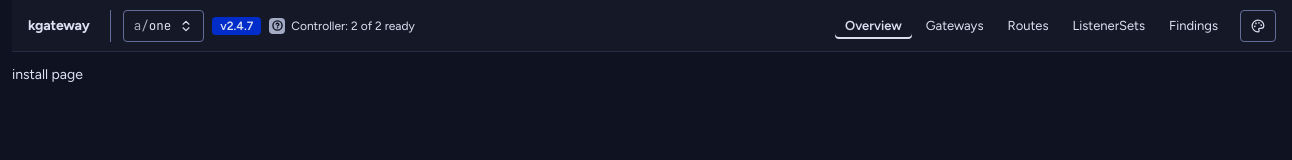
renders a stale install summary as unknown in the switcher and the header
The width and height of the screenshot is (1292, 160).
Expected: the element with test id "health-icon-unknown" is shown, [269,18,285,34]
Step 1. Click the button with aria-label "switch install" → (163, 26), box [123,10,204,42]
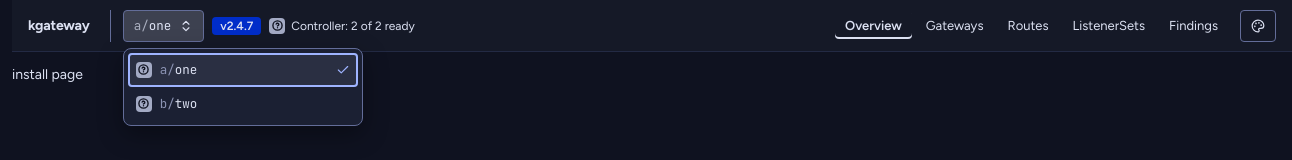
Result: the 3rd element with test id "health-icon-unknown" is shown at [136,96,152,112]
